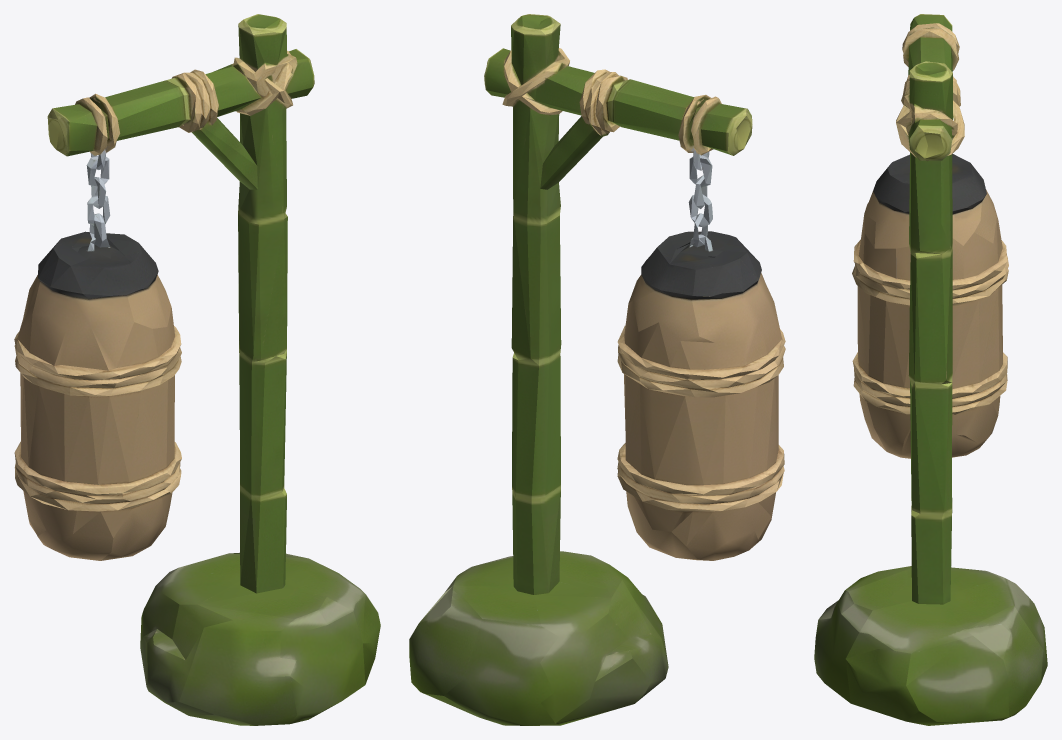
The model's file is meshy.glb.
3 renders of one model, left to right at view 1: azimuth 30°, elevation 25°; view 2: azimuth 150°, elevation 25°; view 3: azimuth 270°, elevation 25°, orthographic. The views are drawn at different scales.
Size of the model in its own units: 1.03 by 1.9 by 0.6524.
Materials: 1 (1 with a texture image).
